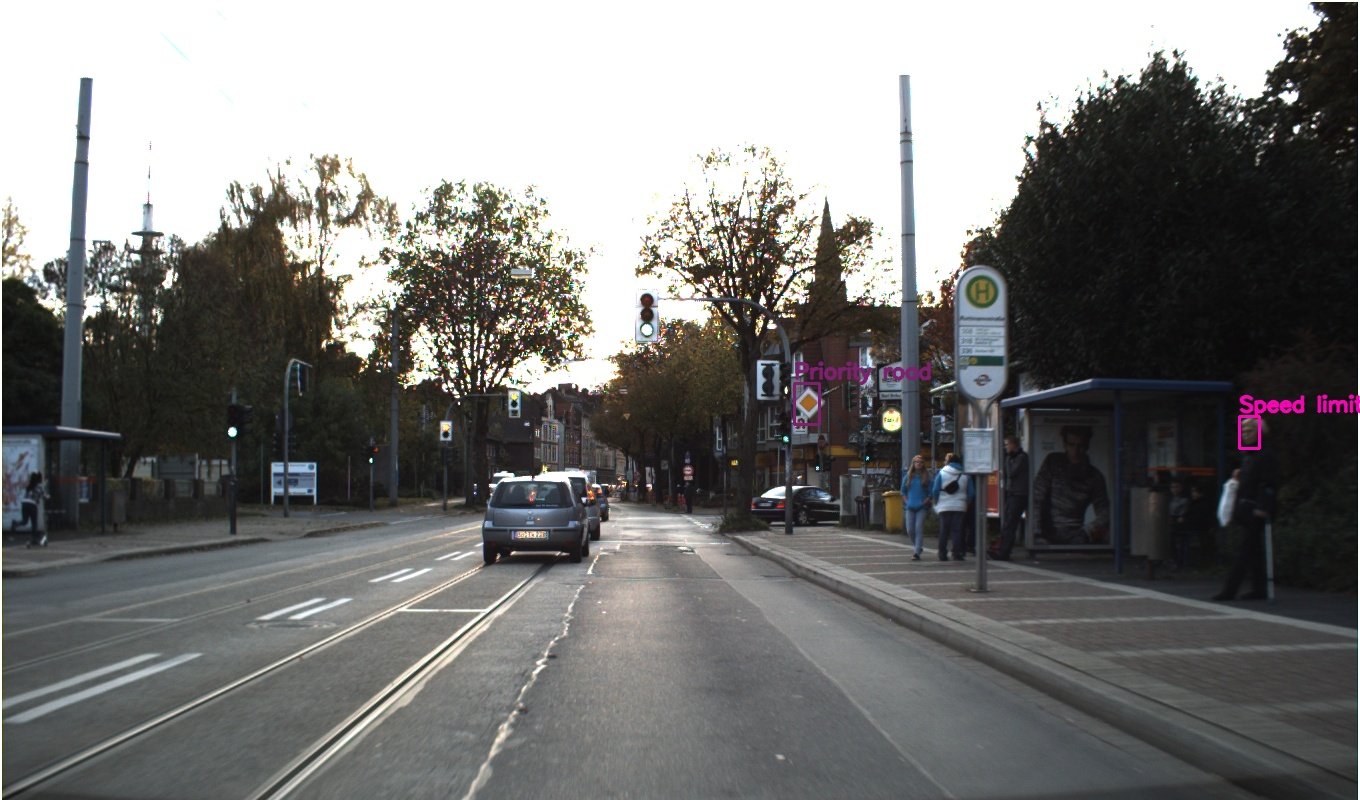Dangerous curve to the left: (695, 437, 723, 461)
Speed limit (30km/h): (698, 461, 719, 481)
